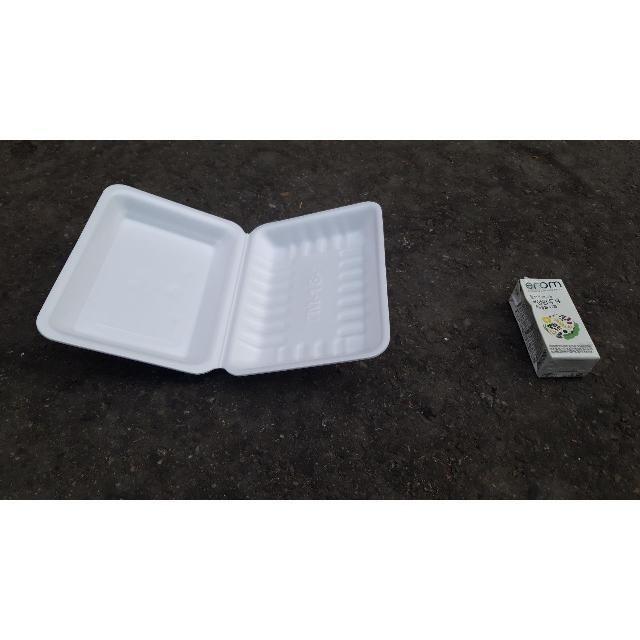Plastico descartable: (38, 186, 392, 379)
